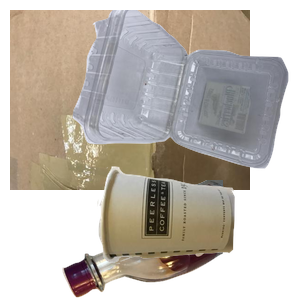cardboard: (10, 10, 250, 190)
glass: (60, 180, 300, 300)
plastic: (70, 10, 300, 171)
trash: (95, 164, 300, 300)
